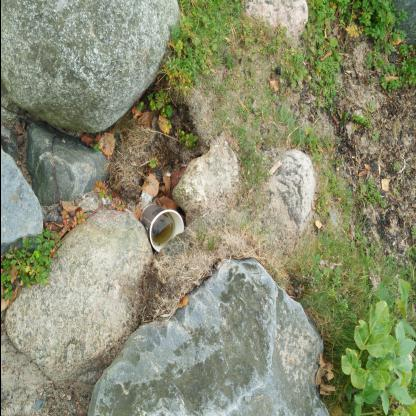karton: (204, 232, 254, 278)
